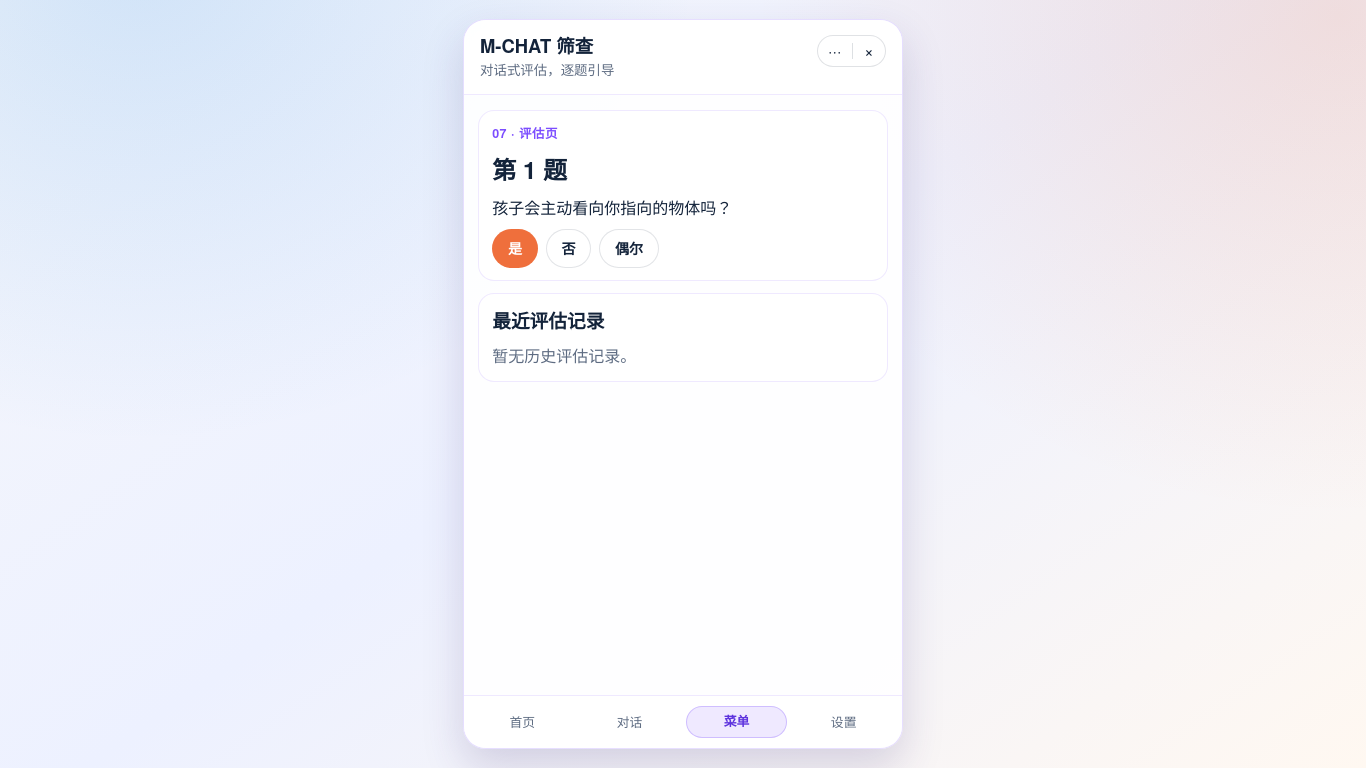
Test: AssessmentPage › answers all questions and persists assessment
The width and height of the screenshot is (1366, 768).
Click the button "是": point(515, 248) [492,229,538,268]
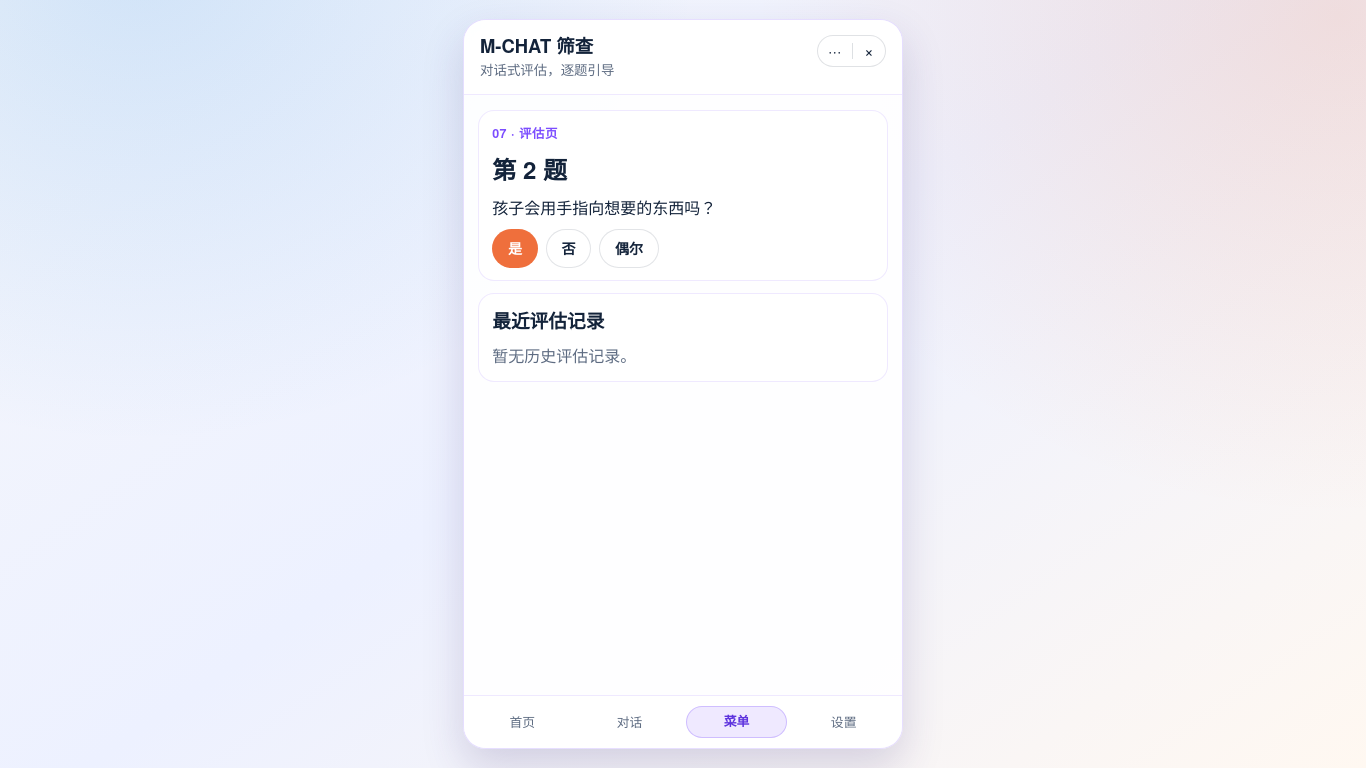
Click the button "否": point(568, 248) [546,229,591,268]
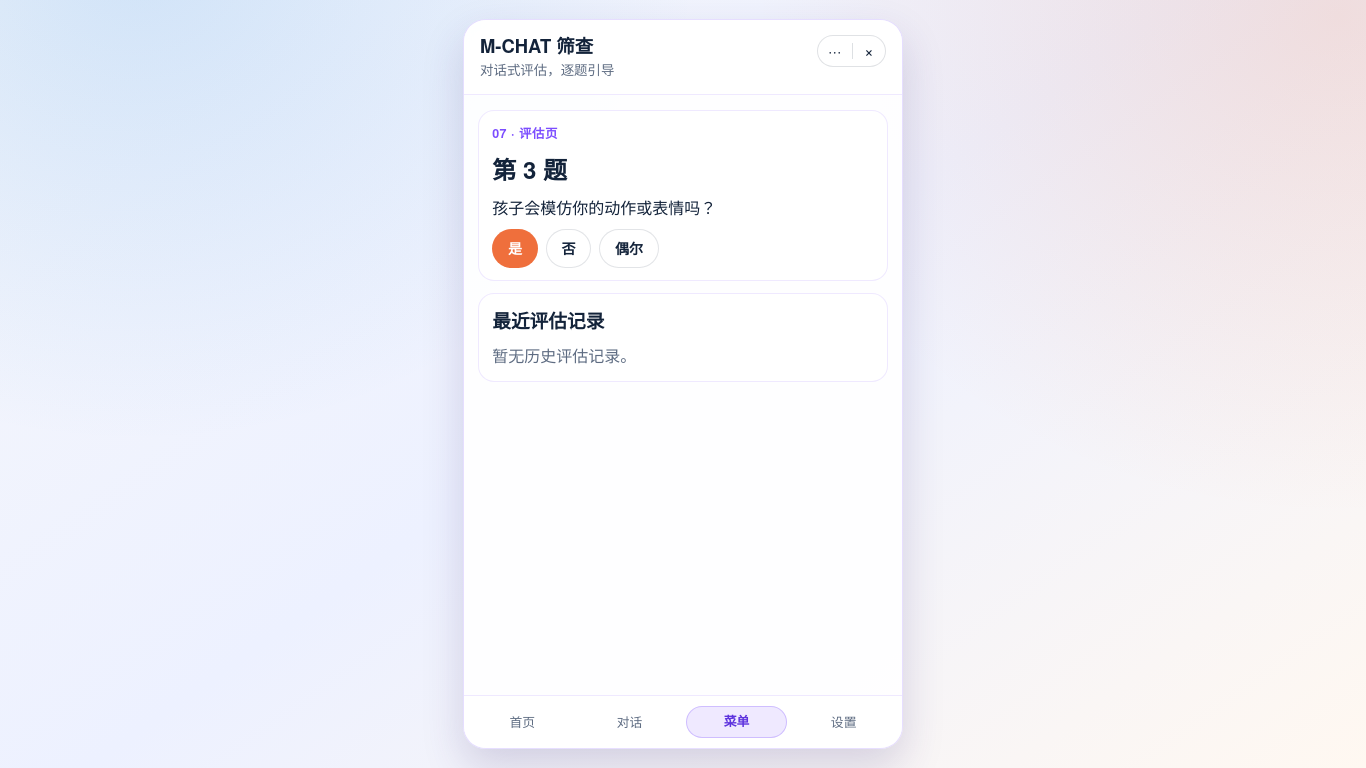
Click the button "偶尔": point(629, 248) [599,229,659,268]
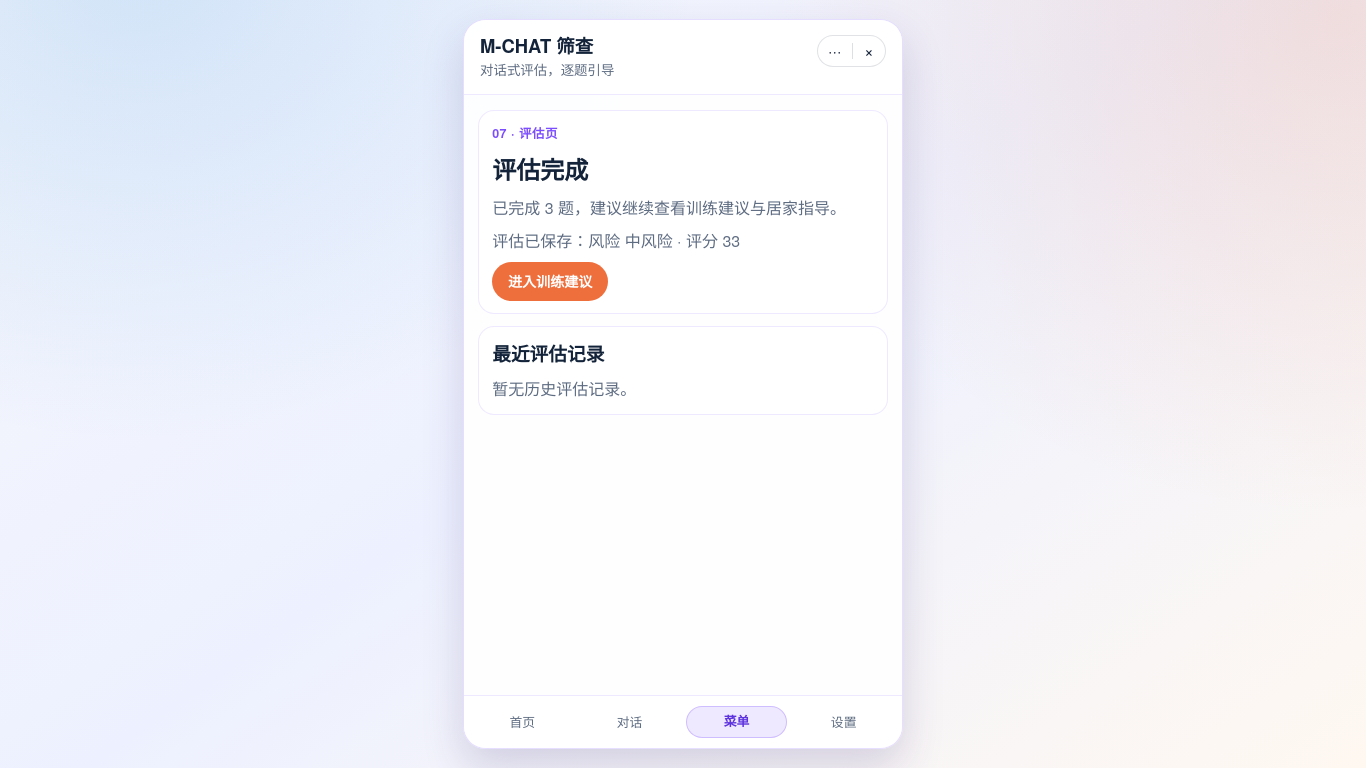
Expected: the text "评估已保存：风险 中风险 · 评分 33" is shown, [492,229,740,252]
Expected: the link "进入训练建议" is shown, [492,262,608,301]
